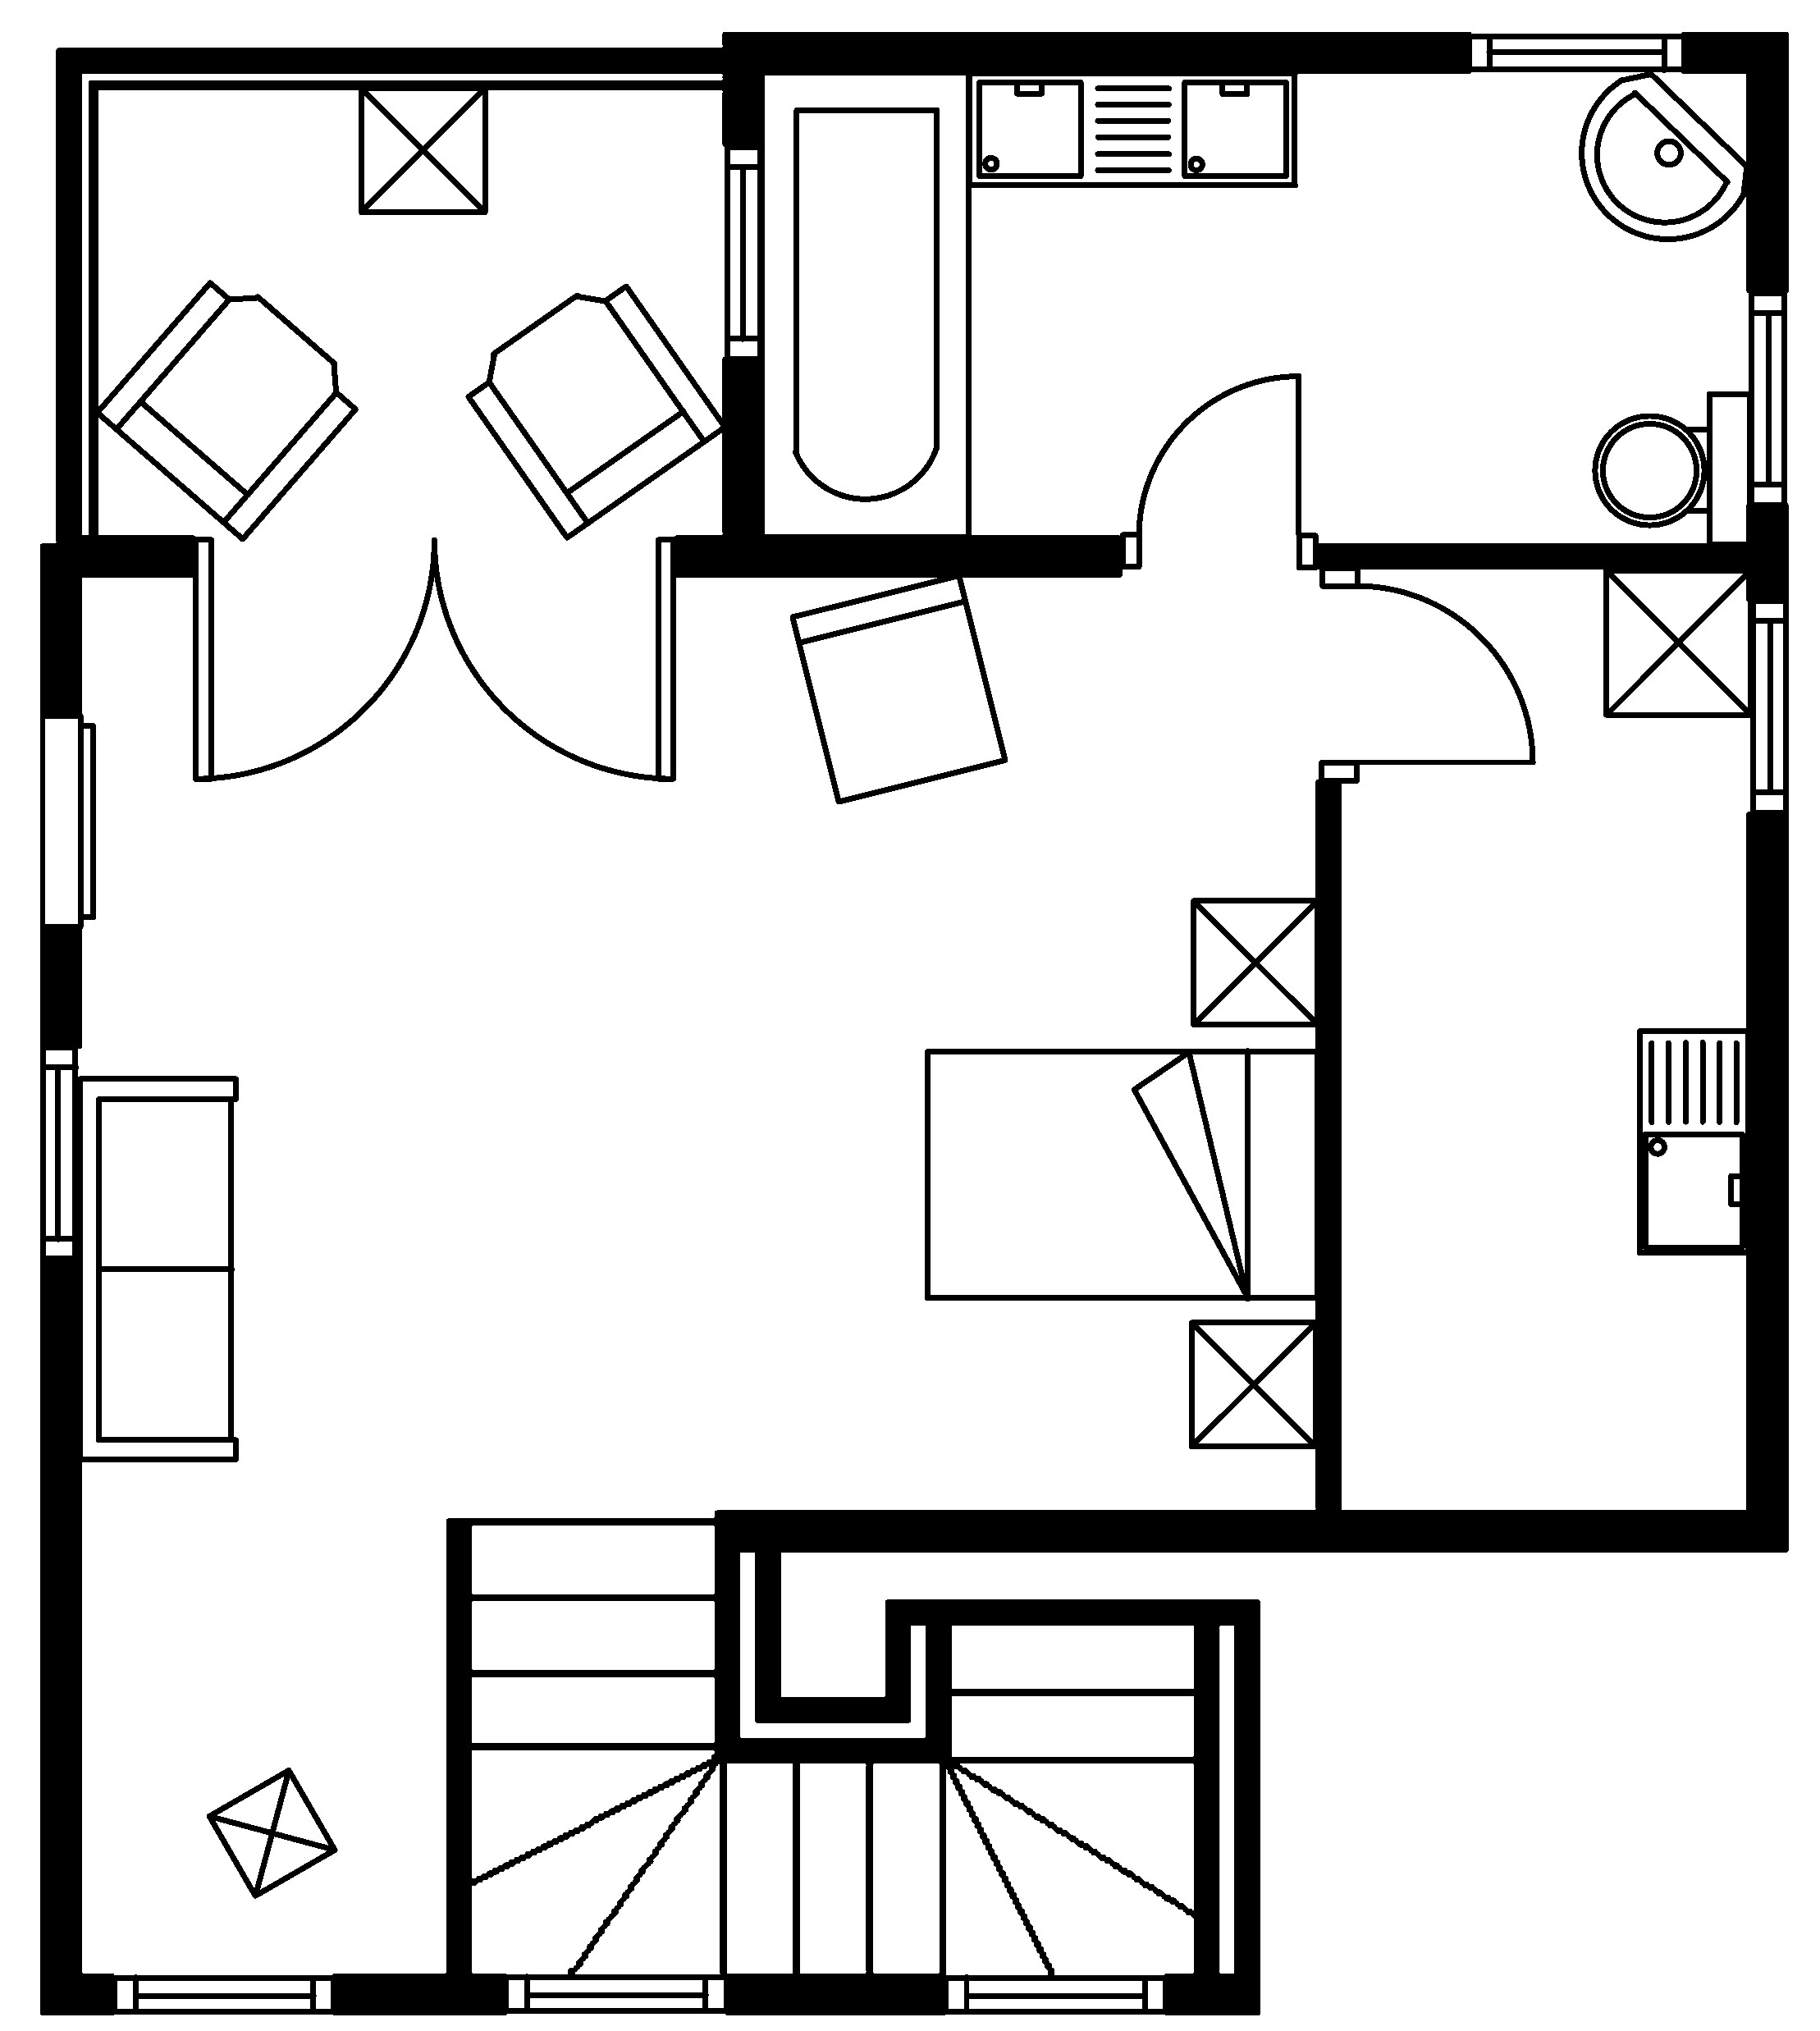armchair: (93, 278, 358, 543), (464, 281, 727, 541)
bed: (922, 1047, 1321, 1302)
coffee_table: (1602, 566, 1753, 719), (206, 1766, 337, 1899), (1186, 1318, 1319, 1449), (1189, 896, 1321, 1028), (357, 84, 488, 214)
large_sink: (1592, 388, 1753, 548)
large_sofa: (76, 1073, 239, 1462)
sink: (1636, 1026, 1751, 1256)
small_sink: (1578, 70, 1750, 241)
small_sofa: (787, 571, 1008, 805)
tub: (757, 69, 971, 539)
twin_sink: (964, 69, 1298, 188)
